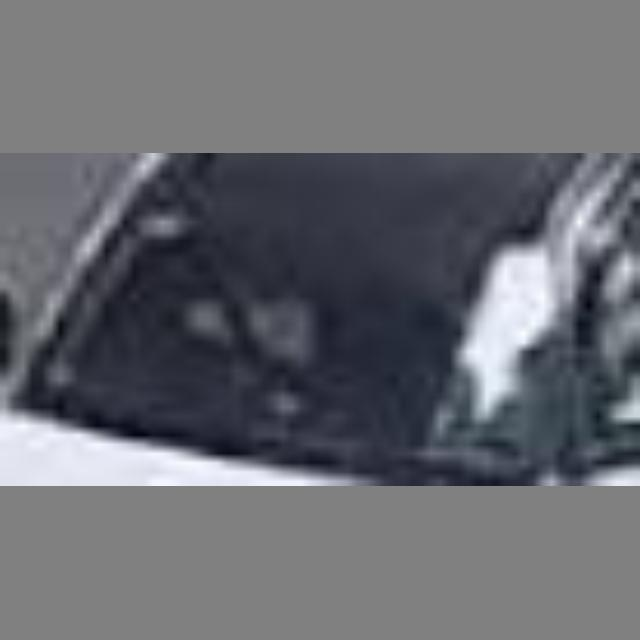pakai: (186, 264, 315, 376)
